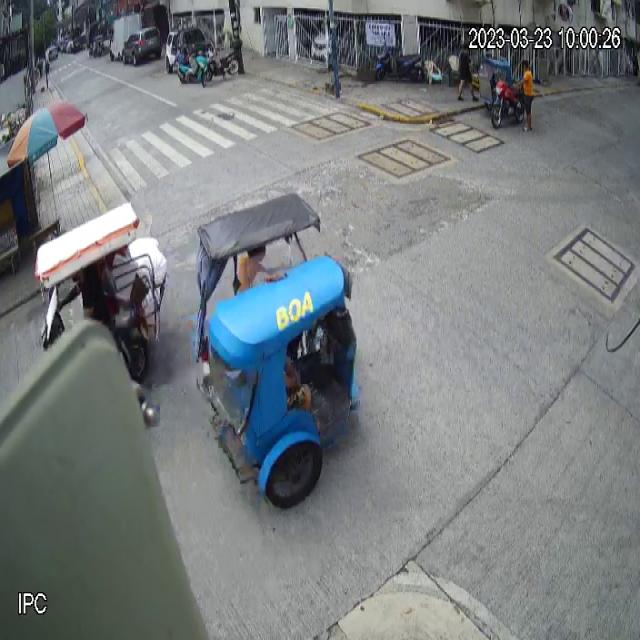Tricycle: (190, 191, 362, 513)
